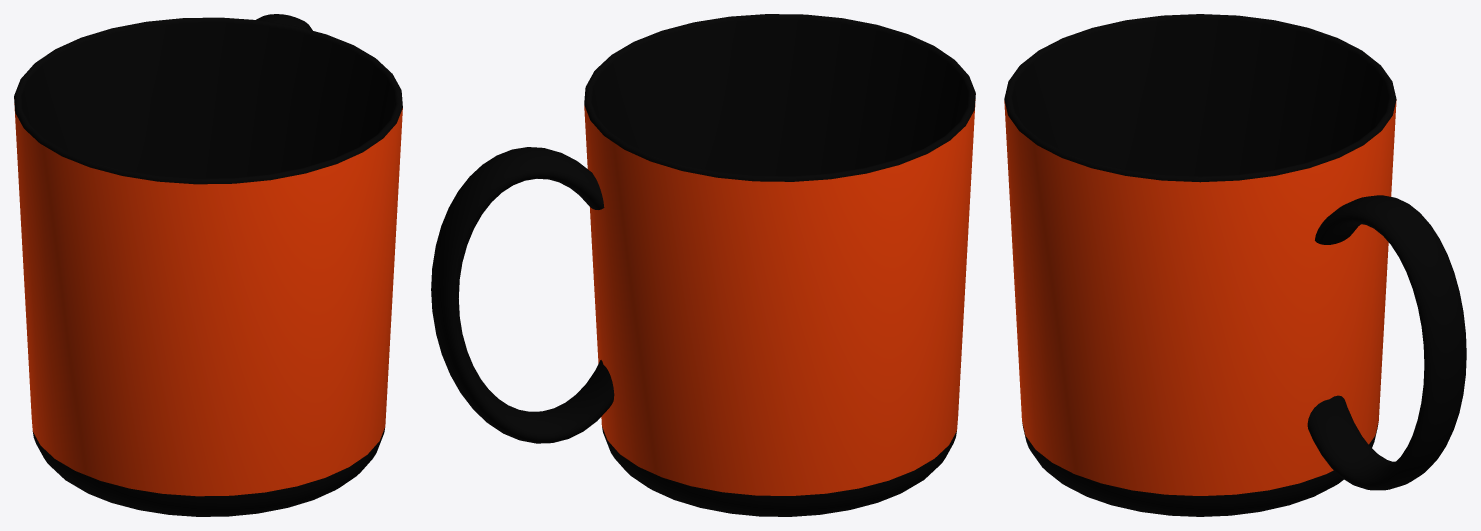
Rendered from mug_08_origin_gt_7.dae.
3 renders of one model, left to right at view 1: azimuth 30°, elevation 25°; view 2: azimuth 150°, elevation 25°; view 3: azimuth 270°, elevation 25°, orthographic.
Visible parts, largest first — view 1: Copo (×3), Alça; view 2: Copo (×3), Alça; view 3: Copo (×3), Alça.
Part boxes in pixels (<box>): Copo (×3): <box>14,17,402,516</box>; Alça: <box>256,14,312,30</box>; Copo (×3): <box>584,14,975,516</box>; Alça: <box>431,147,614,443</box>; Copo (×3): <box>1004,14,1396,516</box>; Alça: <box>1307,195,1466,490</box>.
Size of the model in its own units: 4.18 by 4.18 by 3.58.
